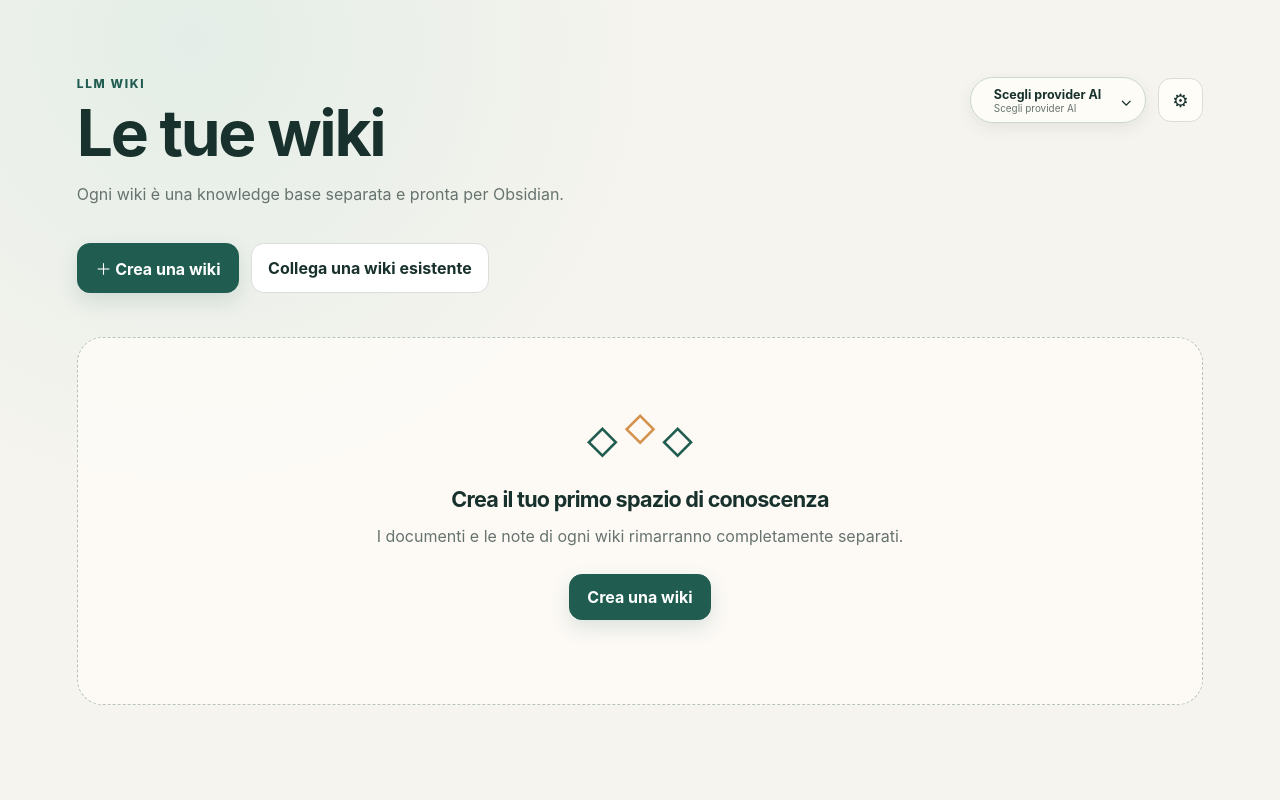
Scenario: App › moves keyboard focus into dialogs and closes them with Escape
The width and height of the screenshot is (1280, 800).
Click the button "＋ Crea una wiki" at (158, 268), box x1=77 y1=243 x2=239 y2=293
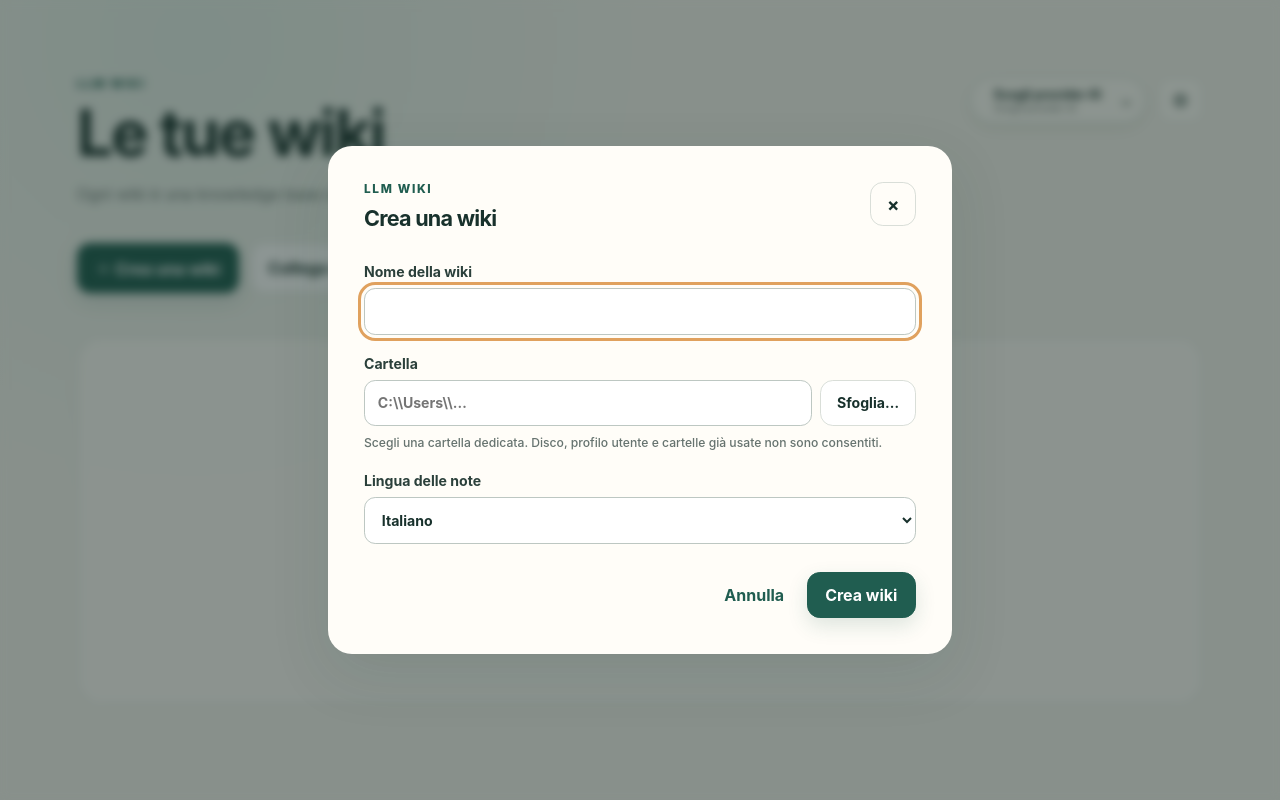
Press Escape in the dialog, box x1=328 y1=146 x2=952 y2=654
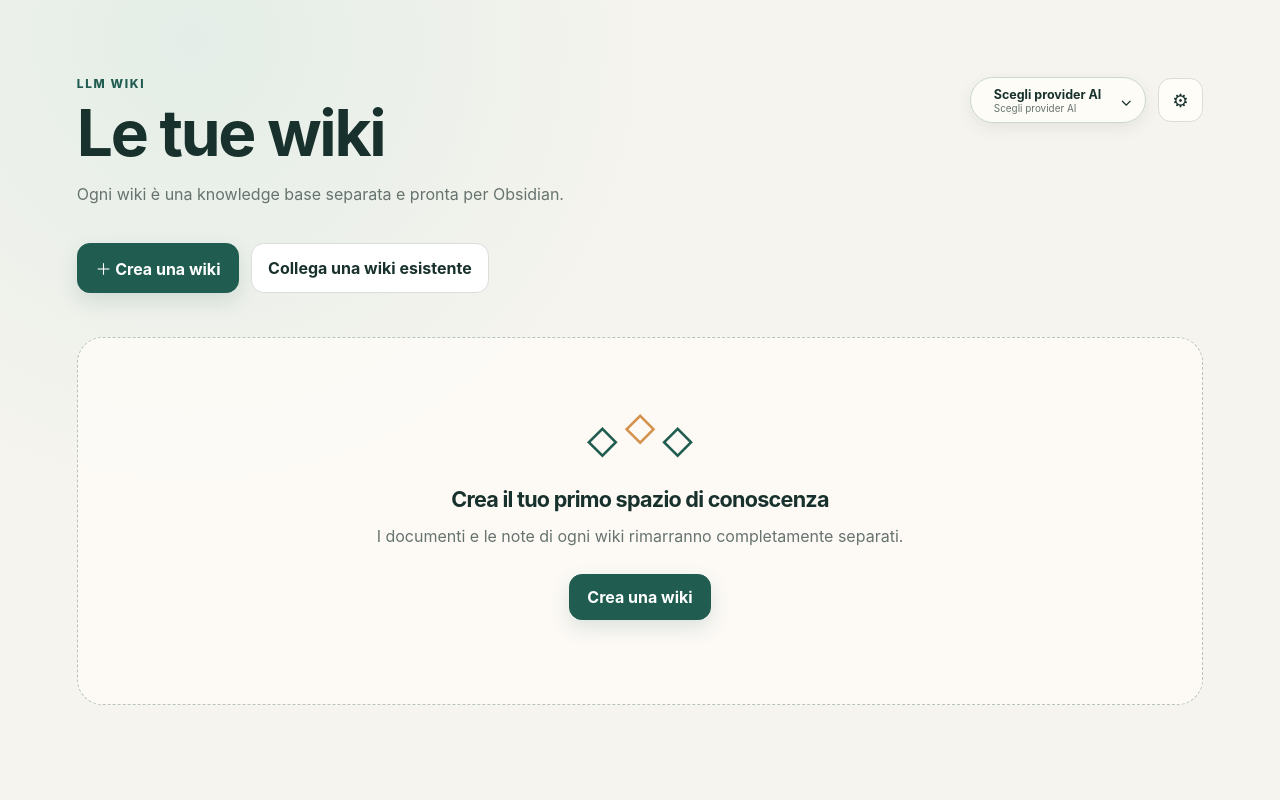
Now the dialog is gone
